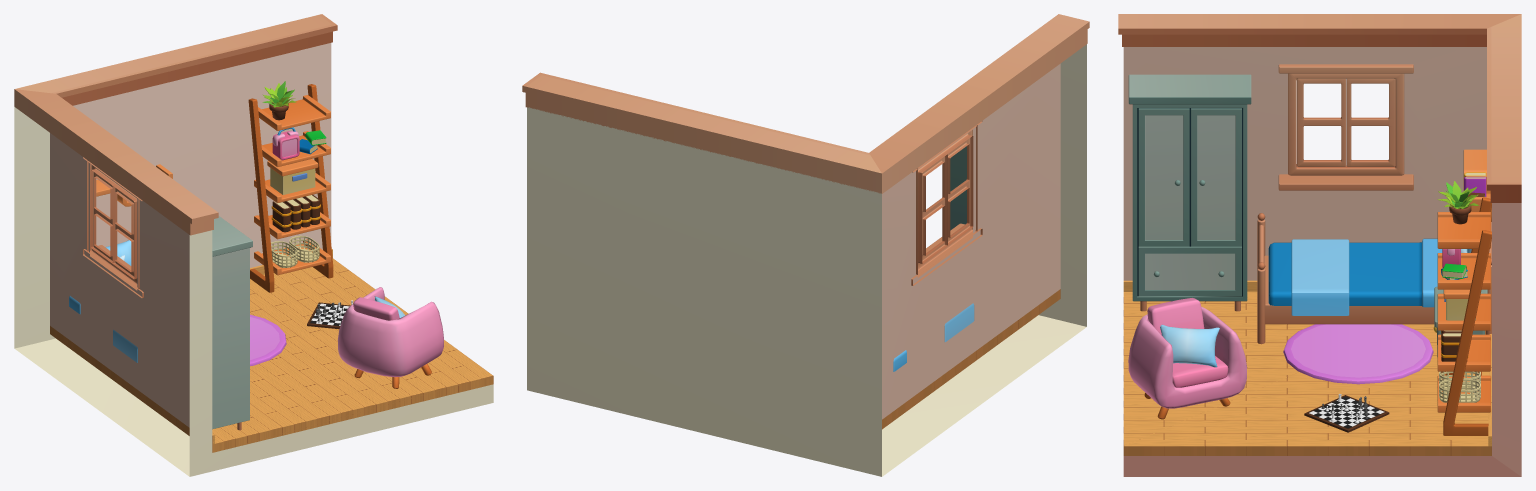
Rendered from bedroom.fbx.
3 renders of one model, left to right at view 1: azimuth 30°, elevation 25°; view 2: azimuth 150°, elevation 25°; view 3: azimuth 270°, elevation 25°, orthographic. The views are drawn at different scales.
Visible parts, largest first — view 1: bedroom_wall, wardrobe_2, shelf1, small_chair, book, carpet, box, bed, chess_board, casset, plant, basket1 (+1 smaller); view 2: bedroom_wall, wardrobe_2, bed; view 3: bedroom_wall, wardrobe_2, bed, shelf1, small_chair, carpet, chess_board, pillow, plant, wall_shelf, box, basket1 (+2 smaller).
Part boxes in pixels (x1=…): bedroom_wall: x1=14, y1=14, x2=493, y2=476; wardrobe_2: x1=212, y1=216, x2=252, y2=430; shelf1: x1=248, y1=84, x2=333, y2=292; small_chair: x1=337, y1=287, x2=443, y2=388; book: x1=271, y1=194, x2=320, y2=232; carpet: x1=250, y1=314, x2=286, y2=366; box: x1=267, y1=159, x2=318, y2=194; bed: x1=69, y1=240, x2=137, y2=362; chess_board: x1=307, y1=300, x2=353, y2=329; casset: x1=272, y1=127, x2=299, y2=160; plant: x1=262, y1=81, x2=296, y2=120; basket1: x1=289, y1=235, x2=319, y2=262; bedroom_wall: x1=522, y1=14, x2=1089, y2=476; wardrobe_2: x1=950, y1=146, x2=966, y2=230; bed: x1=893, y1=303, x2=974, y2=371; bedroom_wall: x1=1118, y1=14, x2=1521, y2=476; wardrobe_2: x1=1128, y1=74, x2=1251, y2=311; bed: x1=1257, y1=213, x2=1491, y2=344; shelf1: x1=1437, y1=197, x2=1491, y2=435; small_chair: x1=1128, y1=298, x2=1247, y2=419; carpet: x1=1283, y1=324, x2=1433, y2=384; chess_board: x1=1304, y1=394, x2=1389, y2=432; pillow: x1=1160, y1=324, x2=1219, y2=367; plant: x1=1437, y1=181, x2=1478, y2=224; wall_shelf: x1=1463, y1=149, x2=1491, y2=221; box: x1=1443, y1=289, x2=1475, y2=320; basket1: x1=1439, y1=379, x2=1480, y2=402.
Bounding box in the file's own units: 54.54 × 43.96 × 54.52.
